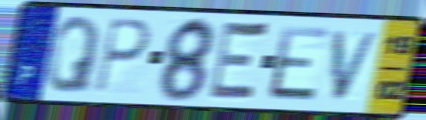8: (158, 15, 219, 104)
E: (204, 17, 273, 106), (266, 23, 333, 105)
P: (93, 16, 153, 96)
Q: (43, 14, 104, 96)
V: (331, 29, 384, 103)
